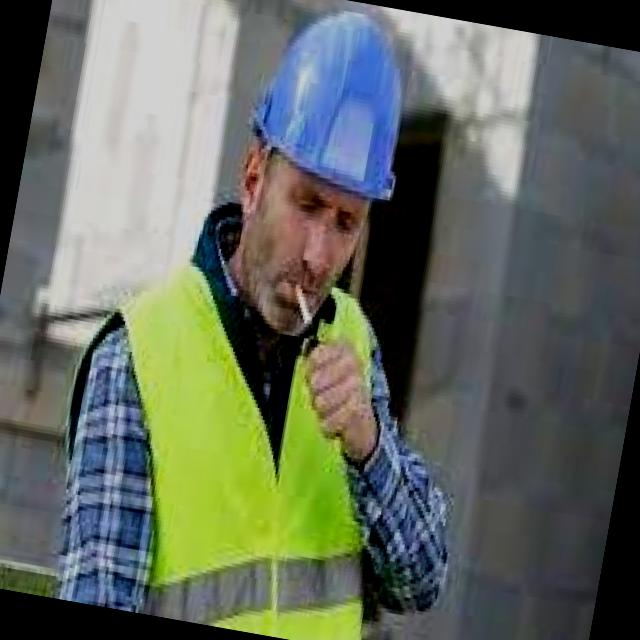smoke: (269, 264, 344, 375)
